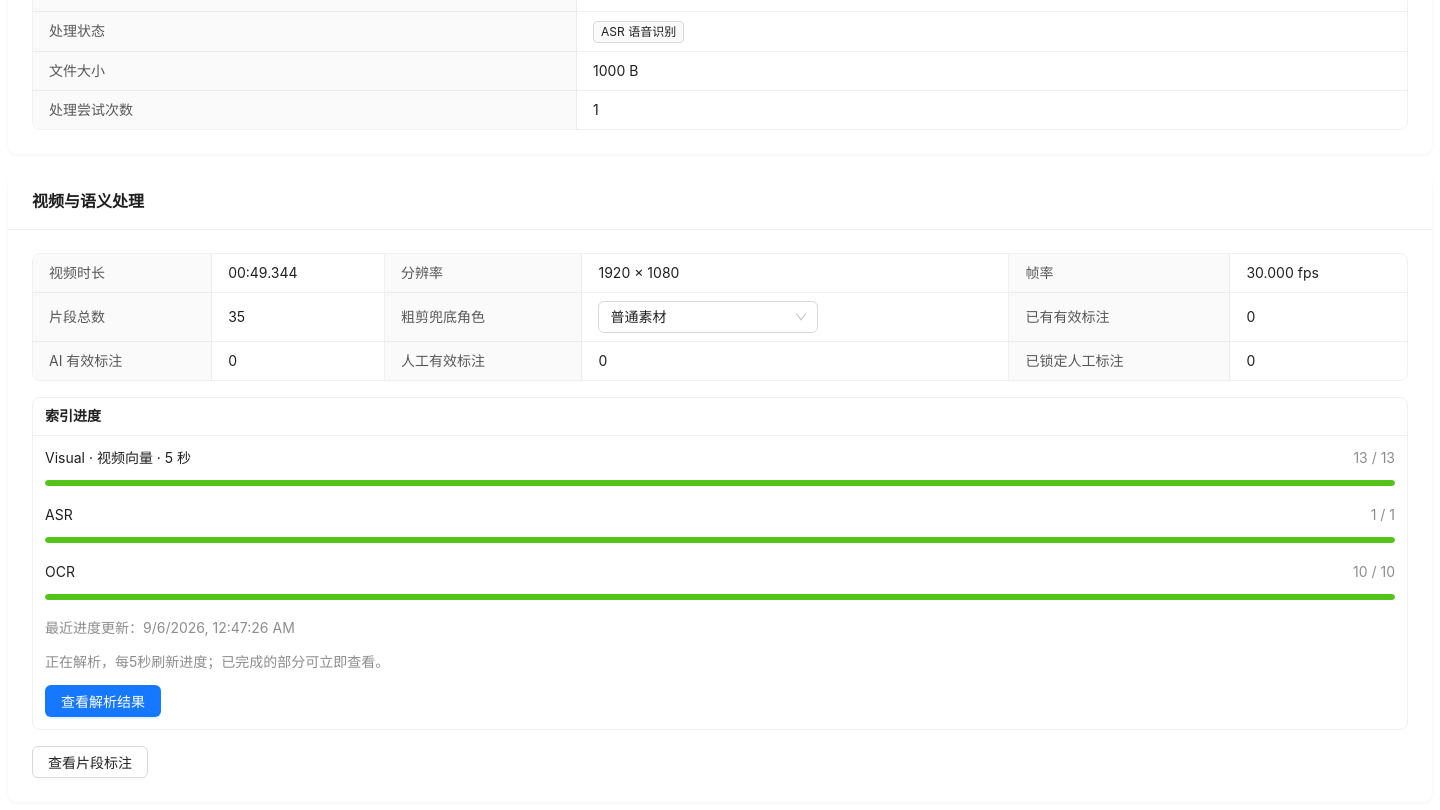
Test: index results › shows progress and partial results while the completed video id is still null
(page scrolled)
Expected: the text "ASR 语音识别" is shown, [593, 21, 684, 43]
Expected: the text "13 / 13" is shown, [1353, 449, 1395, 466]
What coordinates should you click on to do the following:
click the link "查看解析结果"
I would click on:
 (103, 701)
Its box is [45, 685, 161, 717].
(page scrolled)
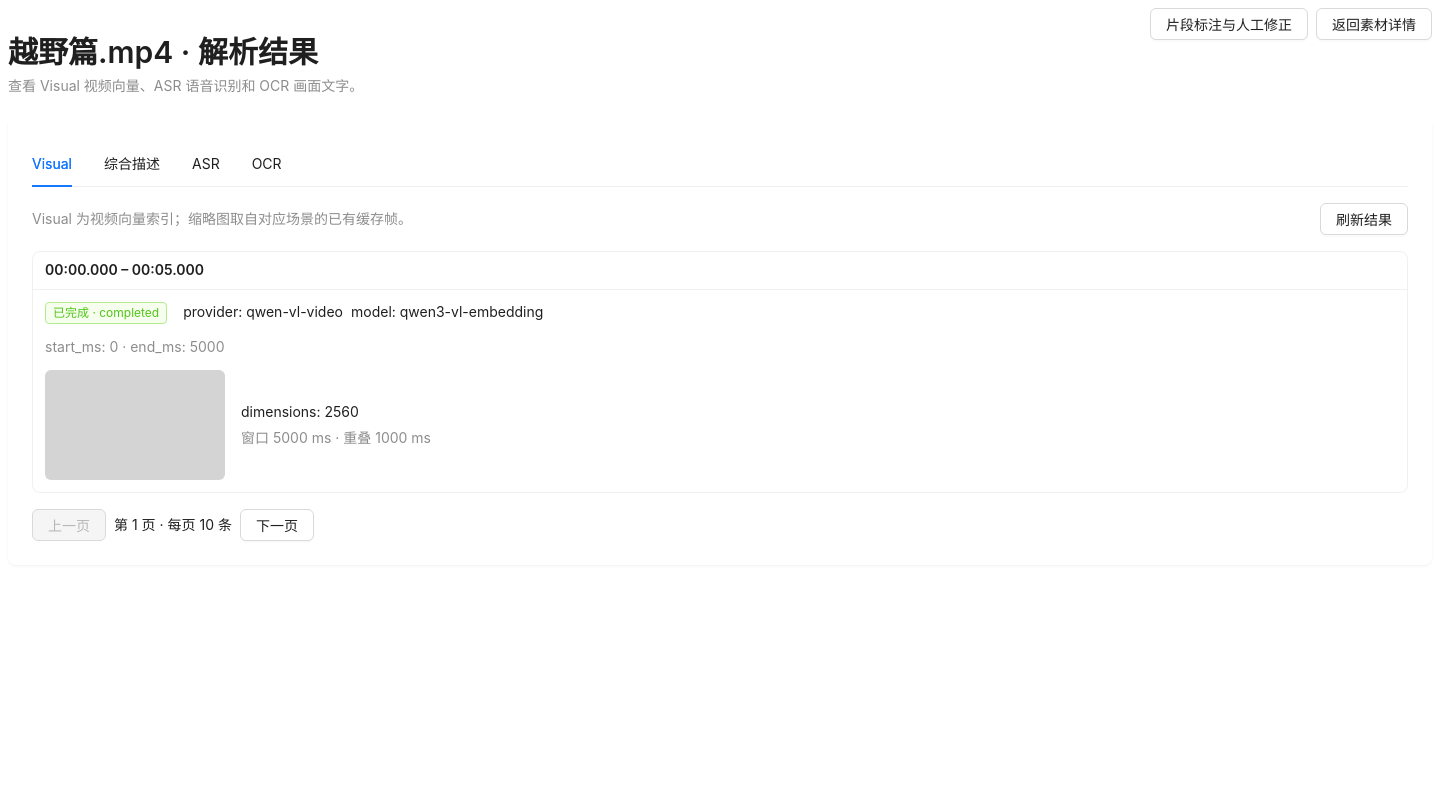
Now the text "dimensions: 2560" is shown, box [241, 403, 359, 420]
